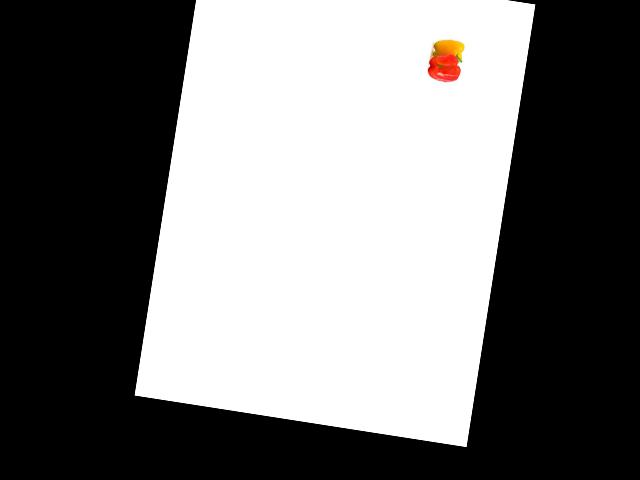bell_pepper: (429, 36, 464, 66)
